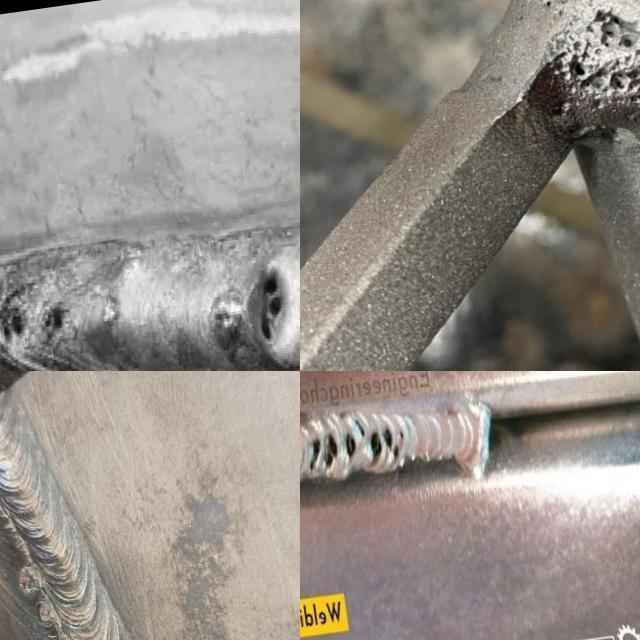defect: (566, 41, 640, 126), (257, 262, 288, 352), (351, 417, 402, 464), (584, 9, 637, 50), (35, 295, 73, 343), (0, 301, 32, 348), (16, 568, 37, 596), (34, 597, 53, 626), (541, 0, 569, 18), (324, 434, 338, 467), (308, 438, 322, 471), (344, 431, 357, 460), (514, 12, 525, 25), (7, 531, 14, 540), (399, 431, 404, 441)
